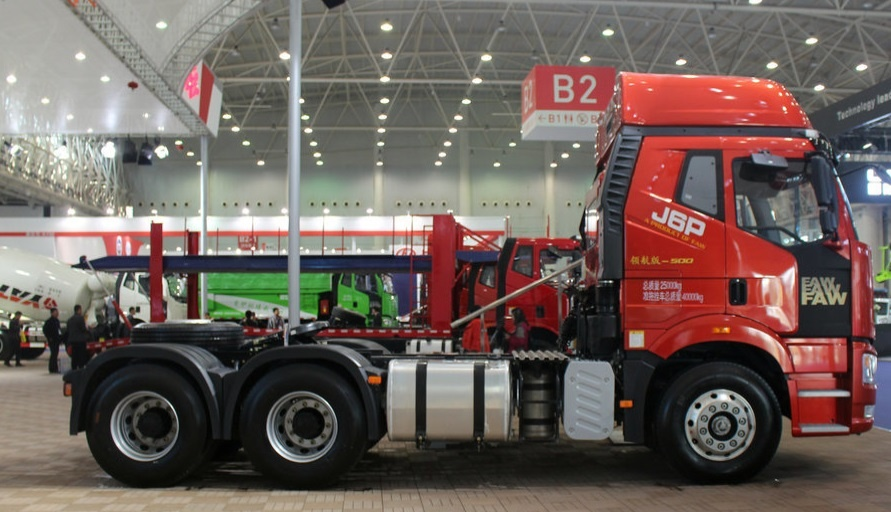heavy truck: (71, 79, 874, 485)
